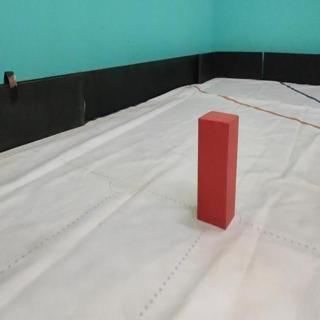redbox: (196, 109, 238, 229)
